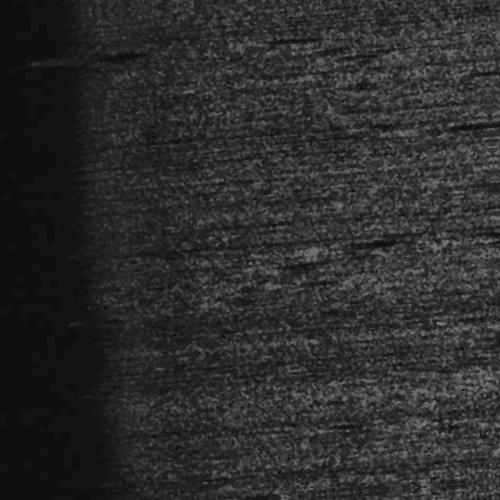object: (399, 140, 430, 143)
shadow: (415, 140, 431, 143)
